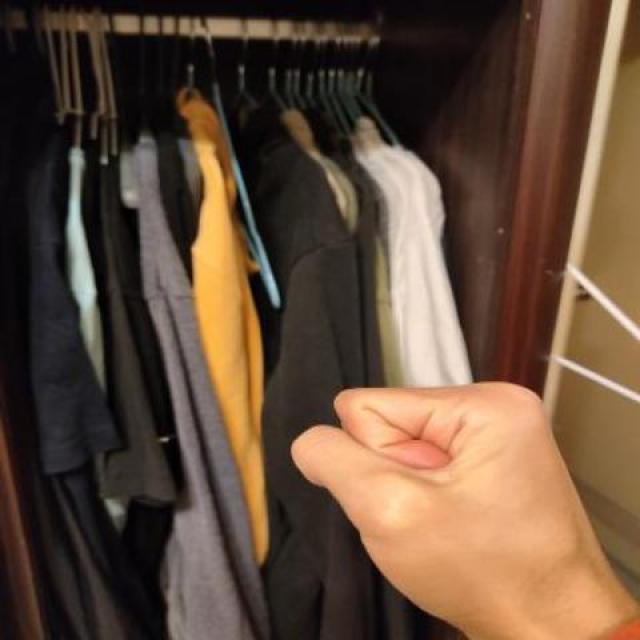Closed Hand: (278, 348, 640, 640)
